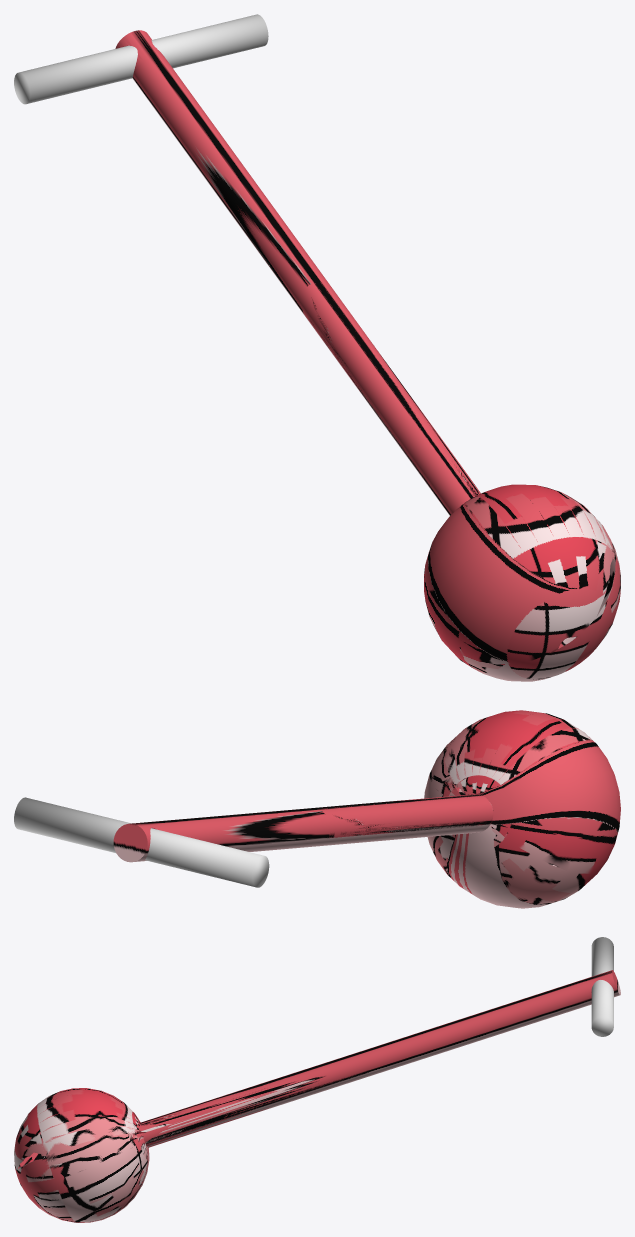
Rendered from pendule_simple.fbx.
3 views of the same model, one above another, from view 1: azimuth 30°, elevation 25°; view 2: azimuth 150°, elevation 25°; view 3: azimuth 270°, elevation 25° (orthographic). The views are drawn at different scales.
Parts seen in each view (by area): view 1: Pendule, Axe; view 2: Pendule, Axe; view 3: Pendule, Axe.
Boxes of the visible parts, <box> form: Pendule: <box>115,30,620,681</box>; Axe: <box>14,14,268,104</box>; Pendule: <box>113,710,620,908</box>; Axe: <box>14,797,269,887</box>; Pendule: <box>14,970,620,1222</box>; Axe: <box>591,937,613,1036</box>.
Bounding box in the file's own units: 2.78 × 3.99 × 8.95.
Materials: 2 (1 with a texture image).
